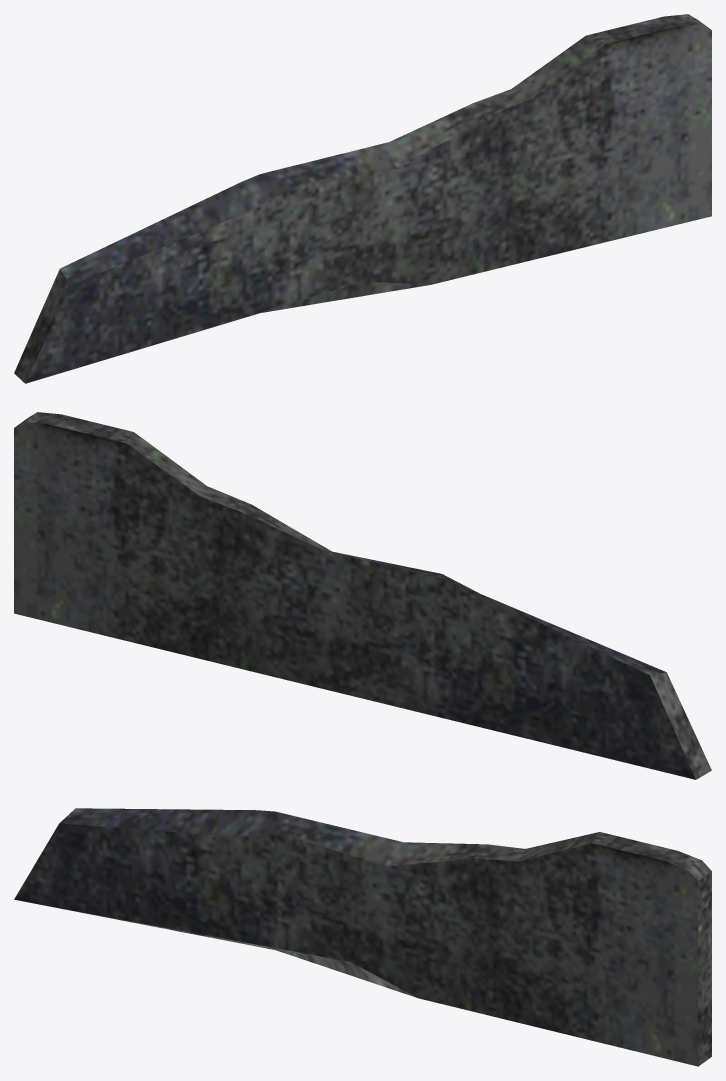
File: Urban_PlackardSlabBrokenAlt_Model.fbx
3 renders of one model, top to bottom at view 1: azimuth 30°, elevation 25°; view 2: azimuth 150°, elevation 25°; view 3: azimuth 330°, elevation 25°, orthographic.
Parts seen in each view (by area): view 1: Urban_PlackardSlabBrokenAlt_Mesh; view 2: Urban_PlackardSlabBrokenAlt_Mesh; view 3: Urban_PlackardSlabBrokenAlt_Mesh.
Part boxes in pixels (x1,y1,x2,y2): Urban_PlackardSlabBrokenAlt_Mesh: (14,14,711,383); Urban_PlackardSlabBrokenAlt_Mesh: (14,412,711,779); Urban_PlackardSlabBrokenAlt_Mesh: (14,808,711,1066).
Size of the model in its own units: 2.9 by 0.8 by 0.1.
